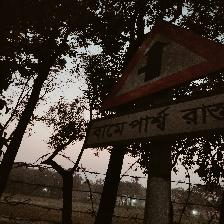Side-road-left: (84, 21, 223, 150)
